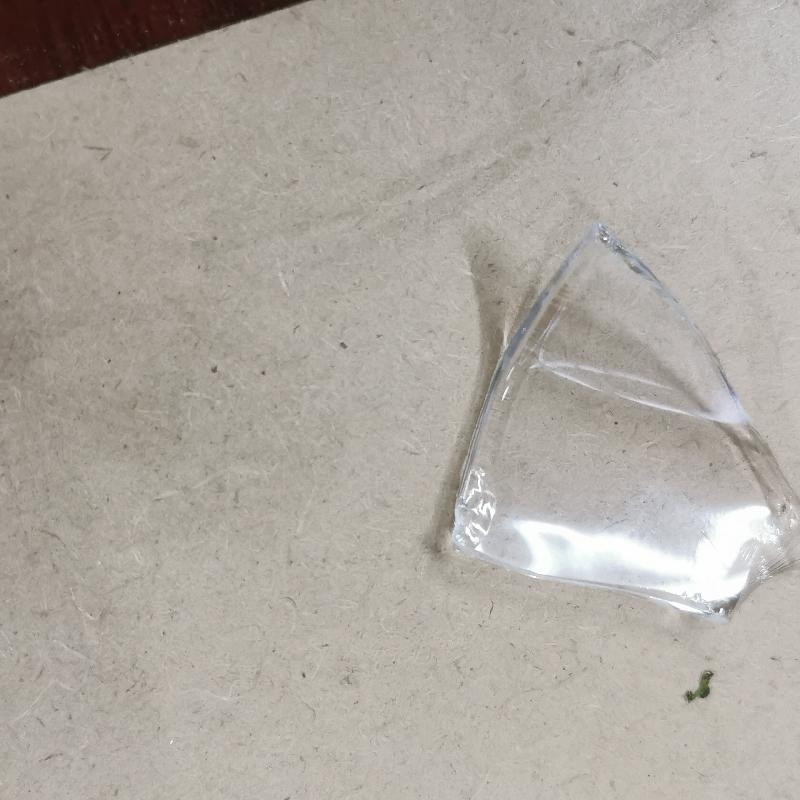glass: (437, 224, 800, 622)
